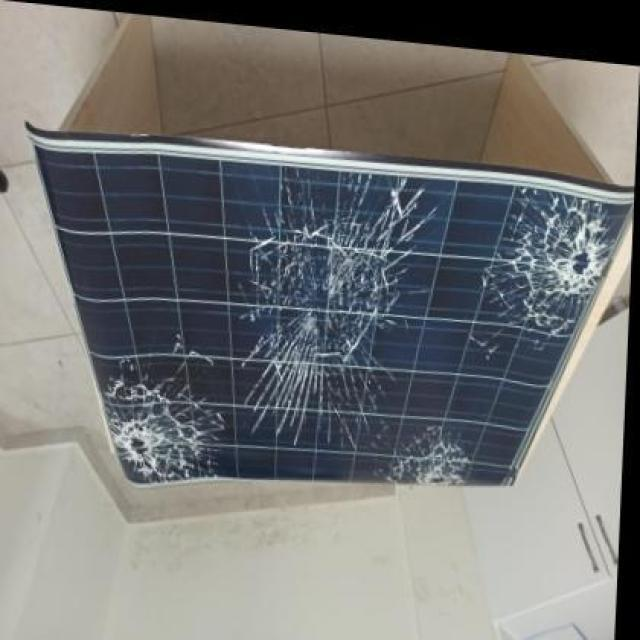cracked: (32, 132, 625, 496)
